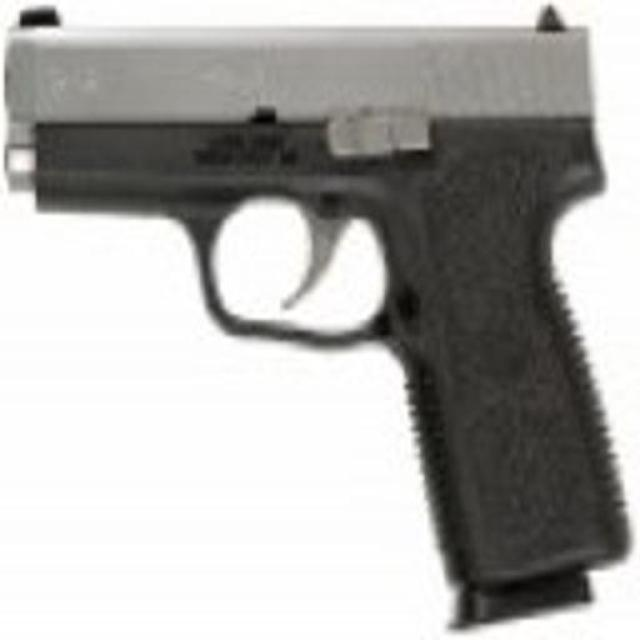pistol: (8, 15, 624, 612)
